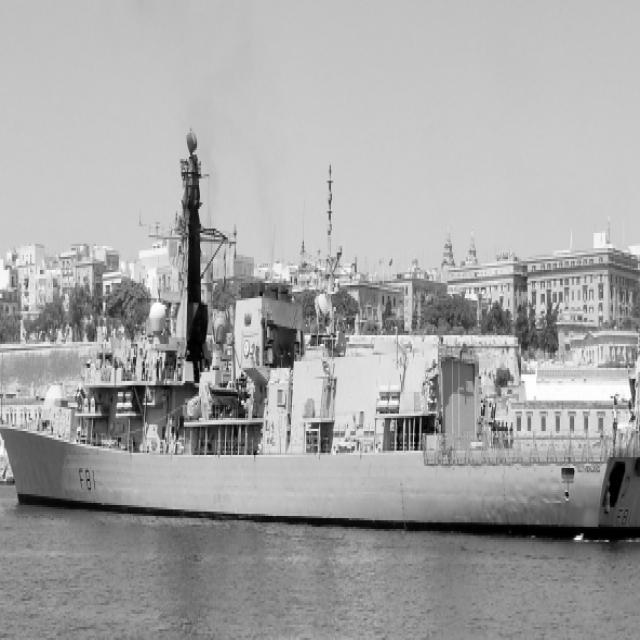Fragata: (1, 114, 640, 524)
